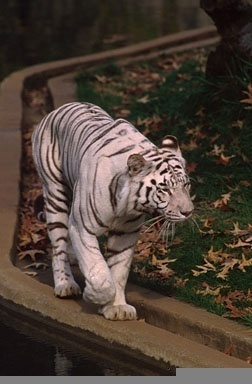tigre: (32, 100, 195, 321)
